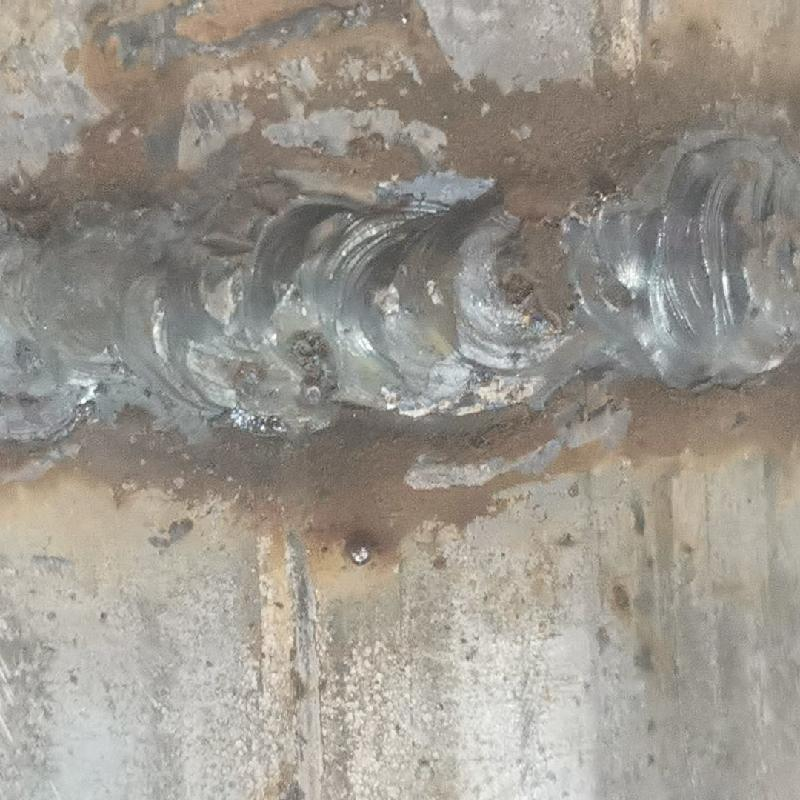good: (1, 114, 799, 444)
